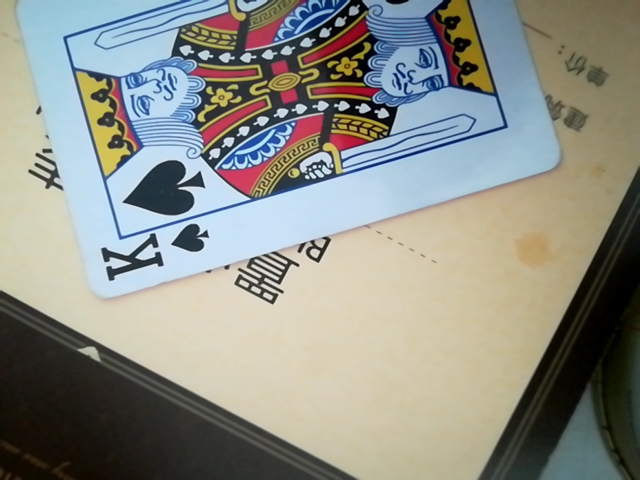ht k: (4, 1, 556, 309)
